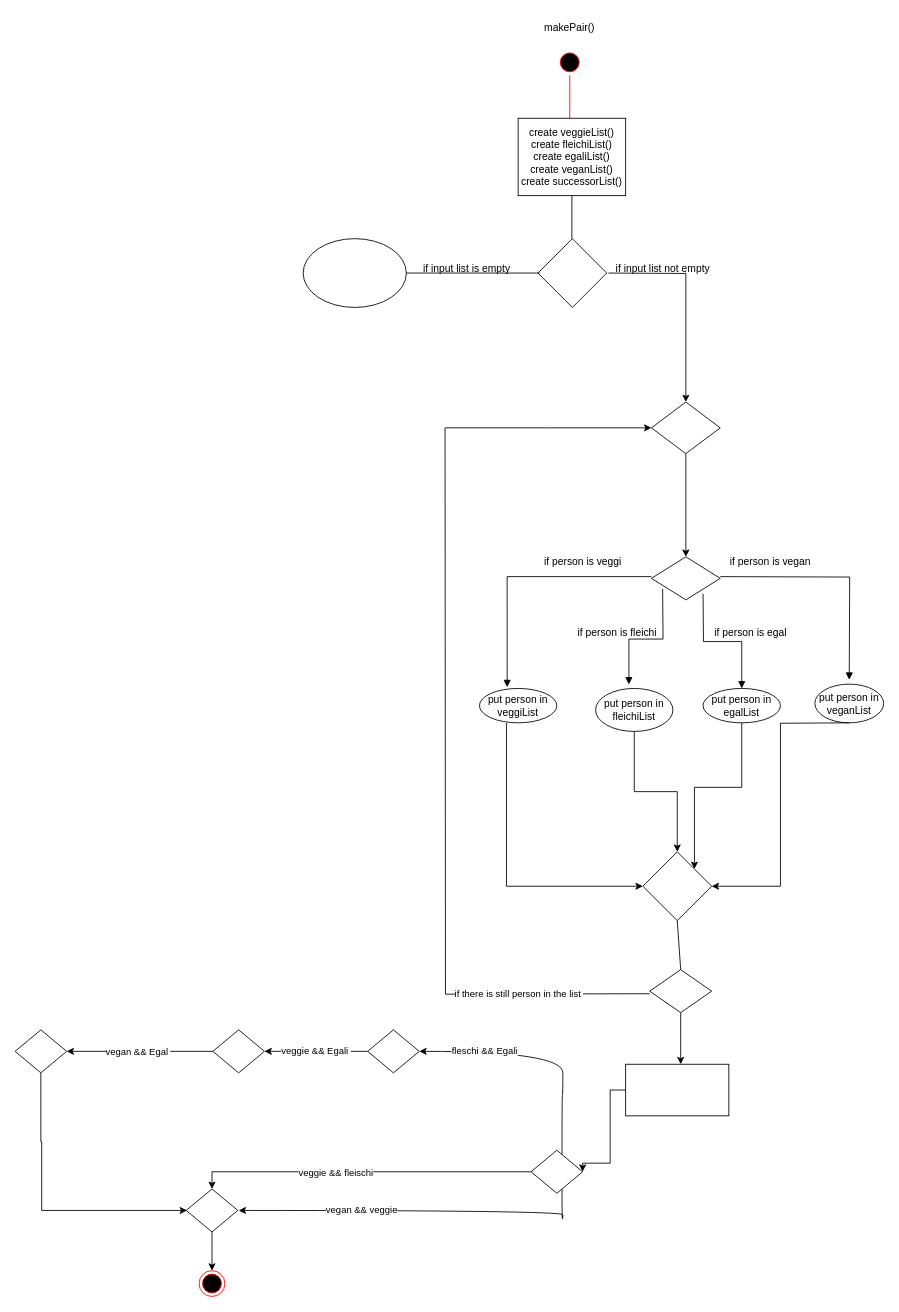
The diagram is 899 pixels wide and 1312 high, and some of its shapes have lost their labels. The centre of each missing label's shape, as x and y in pixels:
"make pair from conditions" goes at point 677,1089.
"throw Exception" goes at point 354,272.
